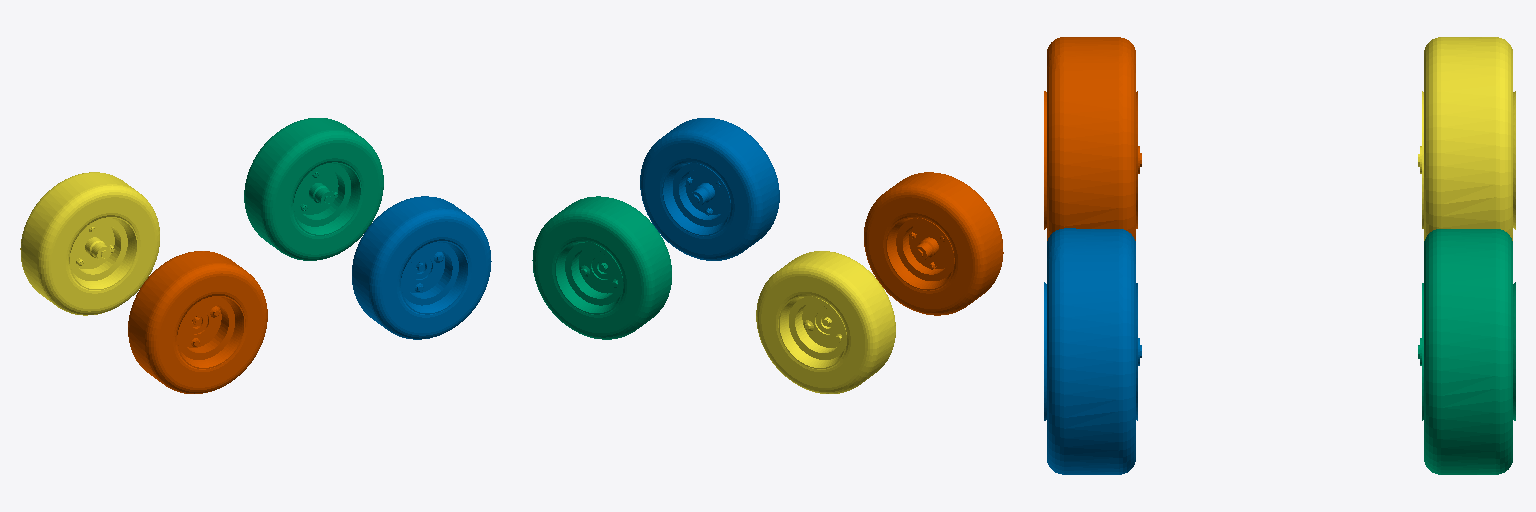
URDF robot description (bigbot):
<?xml version="1.0" ?>
<robot name="bigbot" xmlns:xacro="http://www.ros.org/wiki/xacro">

  <link name="base_link"/>
	
  <link name="bigbot_Base">
    <inertial>
      <origin xyz="0.005541 -3e-05 0.010091" rpy="0 0 0"/>
      <mass value="40"/>
      <inertia ixx="1.539" ixy="0.0101" ixz="-0.103" iyy="2.913" iyz="0.0115" izz="3.314"/>
    </inertial>
    <visual>
      <origin xyz="0 0 0" rpy="0 0 0"/>
      <geometry>
        <mesh filename="model://bigbot/meshes/bigbot_frame.dae" scale="0.001 0.001 0.001"/>
      </geometry>
    </visual>
    <collision>
      <origin xyz="0 0 0.32" rpy="0 0 0"/>
      <geometry>
        <box size="0.42 0.36 0.32"/>
      </geometry>
    </collision>
  </link>

  <!-- Wheel Links -->
  <link name="wheel_urdf_3_UCS1">
    <inertial>
      <origin xyz="-0.00048 0.00039 0.07655" rpy="0 0 0"/>
      <mass value="2.63"/>
      <inertia ixx="0.015166" ixy="3.744e-13" ixz="7.34879e-11" iyy="0.015166" iyz="-5.9709e-11" izz="0.02414"/>
    </inertial>
    <visual>
      <origin xyz="-0.00048 0.00039 0.07671" rpy="0 1.5708 0"/>
      <geometry>
        <mesh filename="model://bigbot/meshes/wheel.dae" scale="0.001 0.001 0.001"/>
      </geometry>
    </visual>
    <collision>
      <origin xyz="-0.00048 0.00039 0.05671" rpy="3.14159 0.000796 3.14159"/>
      <geometry>
        <cylinder length="0.135" radius="0.16"/>
      </geometry>
    </collision>
  </link>

  <link name="wheel_urdf_4_UCS1">
    <inertial>
      <origin xyz="-0.00048 0.00039 0.07655" rpy="0 0 0"/>
      <mass value="2.63"/>
      <inertia ixx="0.015166" ixy="3.744e-13" ixz="7.34879e-11" iyy="0.015166" iyz="-5.9709e-11" izz="0.02414"/>
    </inertial>
    <visual>
      <origin xyz="-0.00048 0.00039 0.07671" rpy="0 1.5708 0"/>
      <geometry>
        <mesh filename="model://bigbot/meshes/wheel.dae" scale="0.001 0.001 0.001"/>
      </geometry>
    </visual>
    <collision>
      <origin xyz="-0.00048 0.00039 0.05671" rpy="3.14159 0.000796 3.14159"/>
      <geometry>
        <cylinder length="0.135" radius="0.16"/>
      </geometry>
    </collision>
  </link>

  <link name="wheel_urdf_1_UCS1">
    <inertial>
      <origin xyz="-0.00048 0.00039 0.07655" rpy="0 0 0"/>
      <mass value="2.63"/>
      <inertia ixx="0.015166" ixy="3.744e-13" ixz="7.34879e-11" iyy="0.015166" iyz="-5.9709e-11" izz="0.02414"/>
    </inertial>
    <visual>
      <origin xyz="-0.00048 0.00039 0.07671" rpy="0 1.5708 0"/>
      <geometry>
        <mesh filename="model://bigbot/meshes/wheel.dae" scale="0.001 0.001 0.001"/>
      </geometry>
    </visual>
    <collision>
      <origin xyz="-0.00048 0.00039 0.05671" rpy="3.14159 0.000796 3.14159"/>
      <geometry>
        <cylinder length="0.135" radius="0.16"/>
      </geometry>
    </collision>
  </link>

  <link name="wheel_urdf_2_UCS1">
    <inertial>
      <origin xyz="-0.00048 0.00039 0.07655" rpy="0 0 0"/>
      <mass value="2.63"/>
      <inertia ixx="0.015166" ixy="3.744e-13" ixz="7.34879e-11" iyy="0.015166" iyz="-5.9709e-11" izz="0.02414"/>
    </inertial>
    <visual>
      <origin xyz="-0.00048 0.00039 0.07671" rpy="0 1.5708 0"/>
      <geometry>
        <mesh filename="model://bigbot/meshes/wheel.dae" scale="0.001 0.001 0.001"/>
      </geometry>
    </visual>
    <collision>
      <origin xyz="-0.00048 0.00039 0.05671" rpy="3.14159 0.000796 3.14159"/>
      <geometry>
        <cylinder length="0.135" radius="0.16"/>
      </geometry>
    </collision>
  </link>

  <!-- Joints -->
  	<joint name="base_link_to_bigbot_Base" type="fixed">
		<parent link="base_link" />
		<child link="bigbot_Base" />
		<origin rpy="0.0 0.0 0.0" xyz="0.00000 0.00000 0.00000" />
	</joint>
  
  <joint name="bigbot_UCSLF_to_wheel_urdf_3_UCS1" type="continuous">
    <parent link="bigbot_Base"/>
    <child link="wheel_urdf_3_UCS1"/>
    <origin xyz="0.27753 0.16887 0.17107" rpy="-1.5708 0 0"/>
    <axis xyz="0 0 1"/>
  </joint>

  <joint name="bigbot_UCSLR_to_wheel_urdf_4_UCS1" type="continuous">
    <parent link="bigbot_Base"/>
    <child link="wheel_urdf_4_UCS1"/>
    <origin xyz="-0.27753 0.16887 0.17107" rpy="-1.5708 0 0"/>
    <axis xyz="0 0 1"/>
  </joint>

  <joint name="bigbot_UCSRF_to_wheel_urdf_1_UCS1" type="continuous">
    <parent link="bigbot_Base"/>
    <child link="wheel_urdf_1_UCS1"/>
    <origin xyz="0.27753 -0.16887 0.17107" rpy="1.5708 0 0"/>
    <axis xyz="0 0 1"/>
  </joint>

  <joint name="bigbot_UCSRR_to_wheel_urdf_2_UCS1" type="continuous">
    <parent link="bigbot_Base"/>
    <child link="wheel_urdf_2_UCS1"/>
    <origin xyz="-0.27753 -0.16887 0.17107" rpy="1.5708 0 0"/>
    <axis xyz="0 0 1"/>
  </joint>

</robot>

--- Render facts (derived) ---
Views: 3 orthographic renders of the robot side by side, from view 1: azimuth 30°, elevation 25°; view 2: azimuth 150°, elevation 25°; view 3: azimuth 270°, elevation 25°.
Model bigbot with 6 links and 5 joints (4 continuous, 1 fixed), rooted at base_link, posed every joint at zero.
Visible links, largest first — view 1: wheel_urdf_2_UCS1, wheel_urdf_1_UCS1, wheel_urdf_4_UCS1, wheel_urdf_3_UCS1; view 2: wheel_urdf_4_UCS1, wheel_urdf_1_UCS1, wheel_urdf_3_UCS1, wheel_urdf_2_UCS1; view 3: wheel_urdf_1_UCS1, wheel_urdf_3_UCS1, wheel_urdf_4_UCS1, wheel_urdf_2_UCS1.
Boxes of the visible links, box(x1,y1,x2,y2) form: wheel_urdf_2_UCS1: box(128, 251, 267, 393); wheel_urdf_1_UCS1: box(352, 196, 491, 339); wheel_urdf_4_UCS1: box(20, 172, 159, 315); wheel_urdf_3_UCS1: box(244, 118, 383, 260); wheel_urdf_4_UCS1: box(756, 251, 895, 393); wheel_urdf_1_UCS1: box(640, 118, 779, 260); wheel_urdf_3_UCS1: box(532, 196, 671, 339); wheel_urdf_2_UCS1: box(864, 172, 1003, 315); wheel_urdf_1_UCS1: box(1044, 228, 1141, 474); wheel_urdf_3_UCS1: box(1418, 229, 1515, 474); wheel_urdf_4_UCS1: box(1418, 37, 1515, 240); wheel_urdf_2_UCS1: box(1044, 37, 1141, 240).
Size in the robot's own frame: 0.857 by 0.577 by 0.302 metres.
4 mesh visuals loaded from 2 distinct referenced files (1 Collada DAE); not drawn: 1 (reference not matched to a file when rendering).